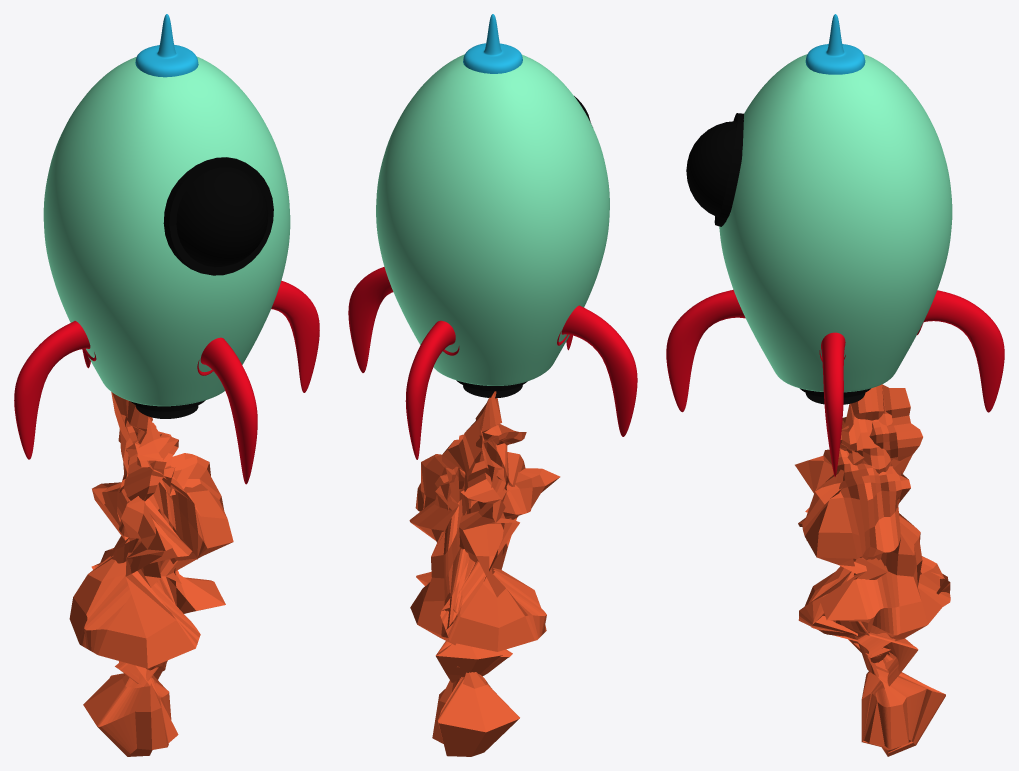
File: Rocket.glb
3 views of the same model, side by side, from view 1: azimuth 30°, elevation 25°; view 2: azimuth 150°, elevation 25°; view 3: azimuth 270°, elevation 25° (orthographic). The views are drawn at different scales.
Visible parts, largest first — view 1: Cube, Cube.009, Sphere, Cube.005, Cube.004, Cube.003, Cube.001, Cube.002; view 2: Cube, Cube.009, Cube.005, Cube.006, Cube.003, Cube.001, Cube.002; view 3: Cube, Cube.009, Sphere, Cube.006, Cube.004, Cube.003, Cube.001.
Part boxes in pixels (x1,y1,x2,y2): Cube: (43, 56, 290, 406); Cube.009: (69, 392, 233, 756); Sphere: (163, 157, 273, 275); Cube.005: (14, 321, 96, 459); Cube.004: (197, 337, 257, 484); Cube.003: (271, 280, 319, 392); Cube.001: (135, 14, 198, 77); Cube.002: (130, 400, 205, 418); Cube: (376, 54, 609, 385); Cube.009: (409, 391, 560, 756); Cube.005: (557, 305, 637, 436); Cube.006: (405, 320, 459, 459); Cube.003: (348, 267, 393, 372); Cube.001: (463, 14, 522, 73); Cube.002: (456, 380, 527, 398); Cube: (719, 54, 952, 392); Cube.009: (795, 384, 950, 756); Sphere: (686, 113, 743, 226); Cube.006: (917, 290, 1004, 412); Cube.004: (666, 289, 745, 412); Cube.003: (819, 332, 845, 476); Cube.001: (805, 14, 865, 74).
Bounding box in the file's own units: 3.32 × 8 × 3.32.
